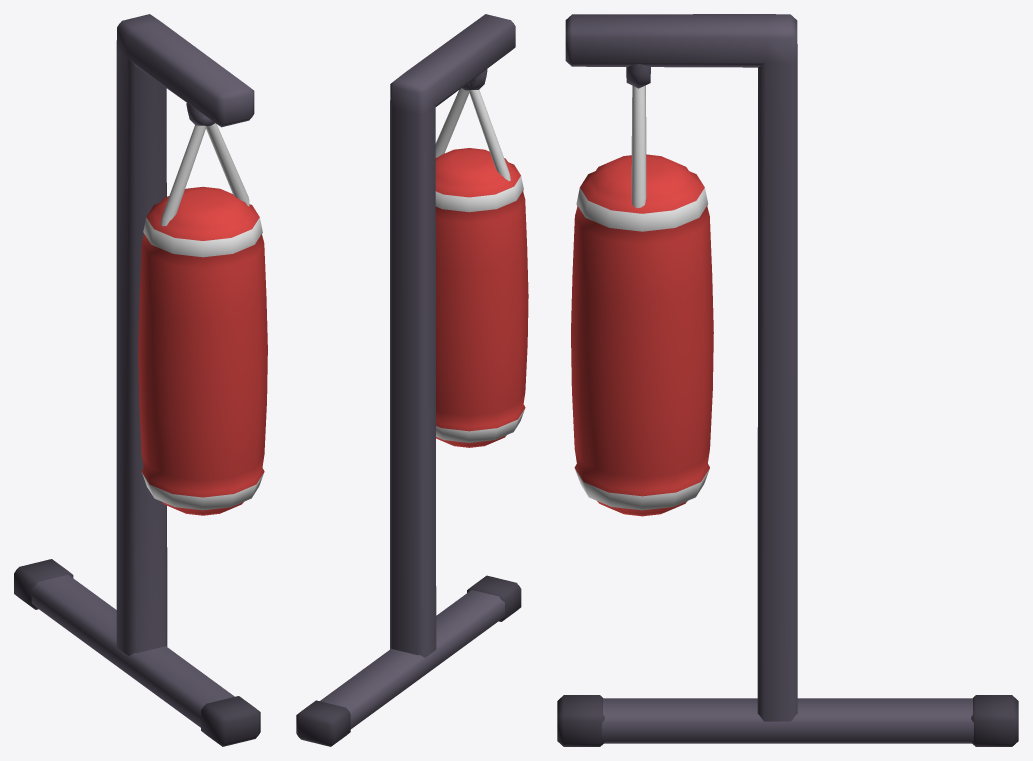
Rendered from Punching_Bag_v01.fbx.
The picture shows the model from 3 angles, left to right: view 1: azimuth 30°, elevation 25°; view 2: azimuth 150°, elevation 25°; view 3: azimuth 270°, elevation 25°; orthographic projection. The views are drawn at different scales.
Visible parts, largest first — view 1: Punching_Bag_v01; view 2: Punching_Bag_v01; view 3: Punching_Bag_v01.
Part boxes in pixels (<box>): Punching_Bag_v01: <box>14,14,267,746</box>; Punching_Bag_v01: <box>296,14,528,746</box>; Punching_Bag_v01: <box>557,14,1018,746</box>.
Bounding box in the file's own units: 0.3461 × 1.91 × 1.12.
Materials: 1 (1 with a texture image).
